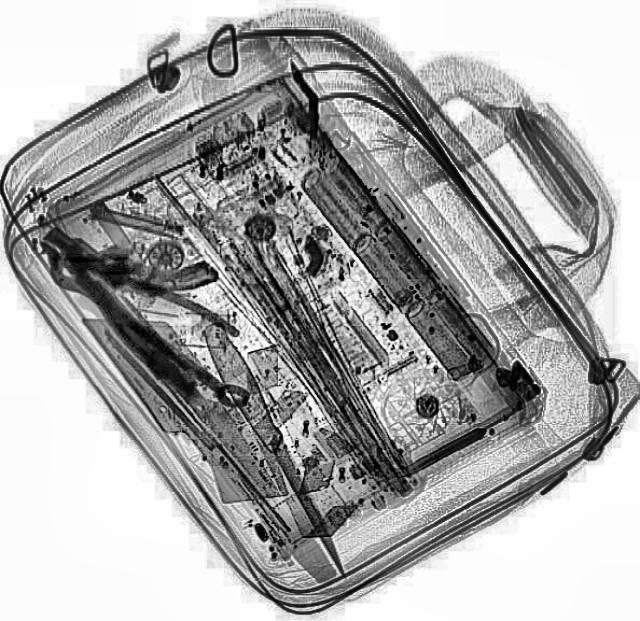Gun: (36, 178, 224, 330)
Knife: (191, 316, 363, 592)
Pliers: (30, 216, 248, 397)
Wrench: (40, 240, 256, 420)
